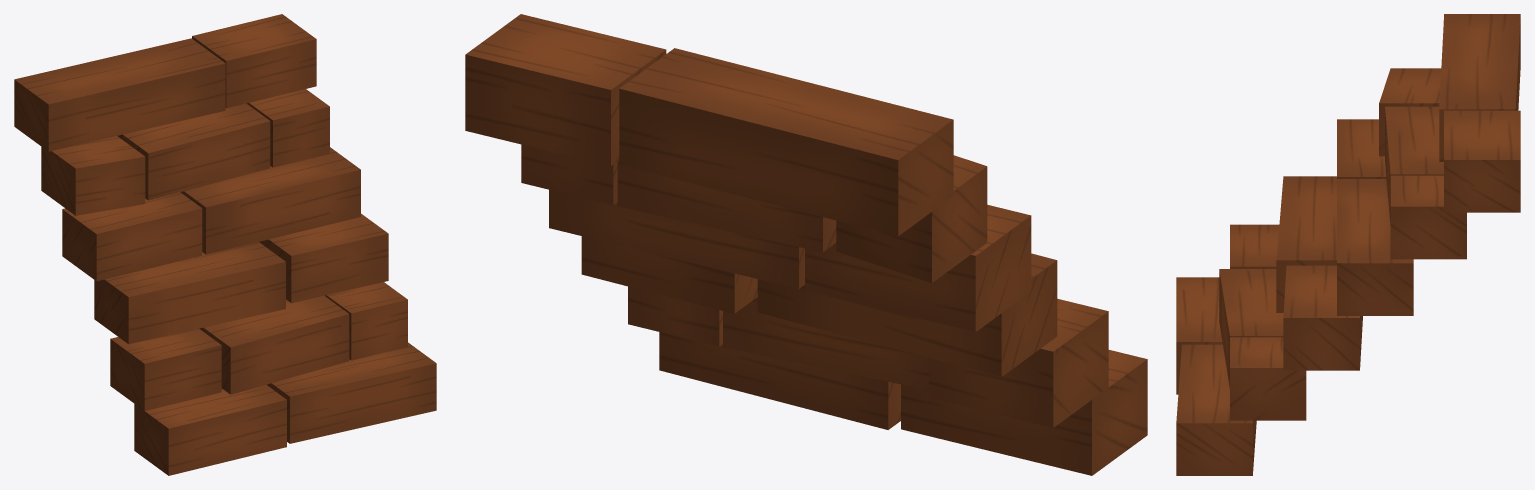
Rendered from ESCADA.fbx.
The picture shows the model from 3 angles, left to right: view 1: azimuth 30°, elevation 25°; view 2: azimuth 150°, elevation 25°; view 3: azimuth 270°, elevation 25°; orthographic projection. The views are drawn at different scales.
Parts seen in each view (by area): view 1: ESCADA.001; view 2: ESCADA.001; view 3: ESCADA.001.
Part boxes in pixels (box(x1,y1,x2,y2)): ESCADA.001: box(14, 14, 436, 475); ESCADA.001: box(465, 14, 1147, 475); ESCADA.001: box(1176, 14, 1520, 475).
Bounding box in the file's own units: 100 × 101 × 99.89.
Materials: 1 (1 with a texture image).
